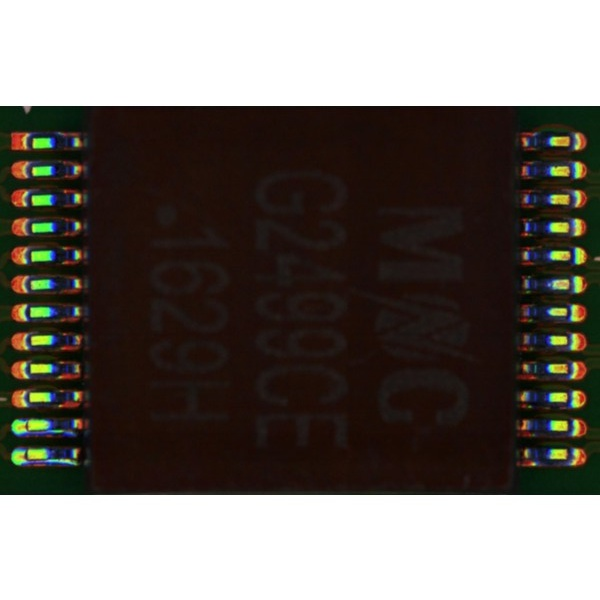Bad_podu: (21, 449, 32, 459), (22, 421, 33, 431)
Bad_qiaojiao: (31, 428, 78, 435), (28, 458, 78, 464)
